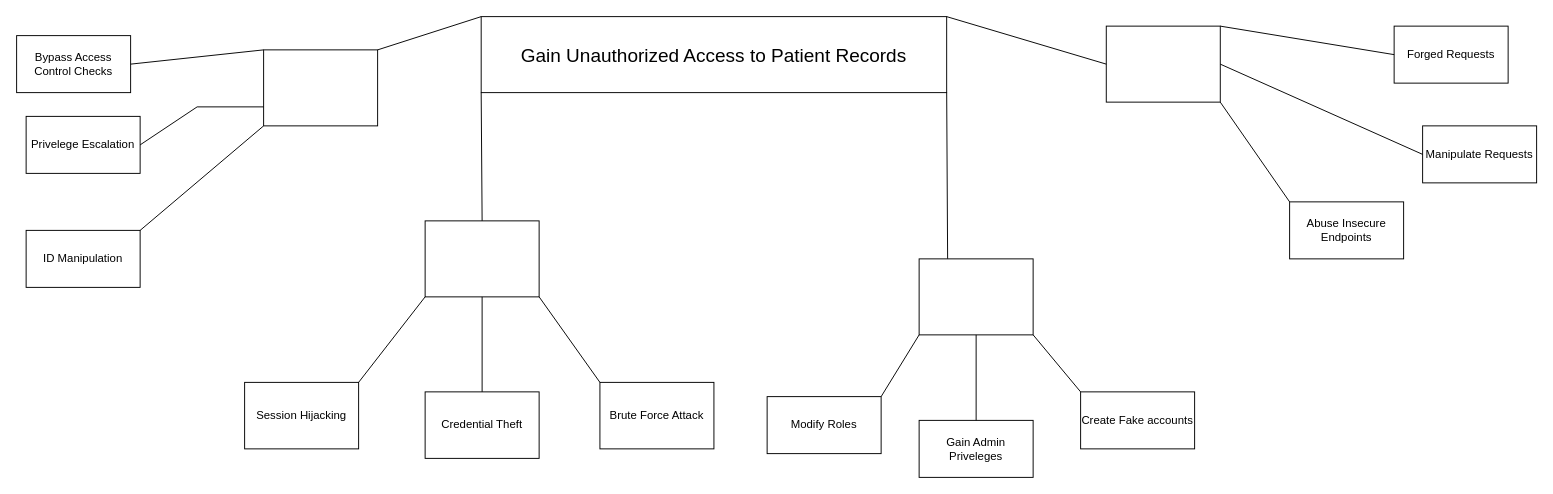
This 1553x494 diagram has some shape labels left out. Each missing label, with the centre of its shape:
"Abuse Administrative Controls" belongs at (975,296).
"Comprimise Authentication" belongs at (481,258).
"Exploit Application Logic" belongs at (1162,63).
"Exploit Authorization Weaknesses" belongs at (320,87).
